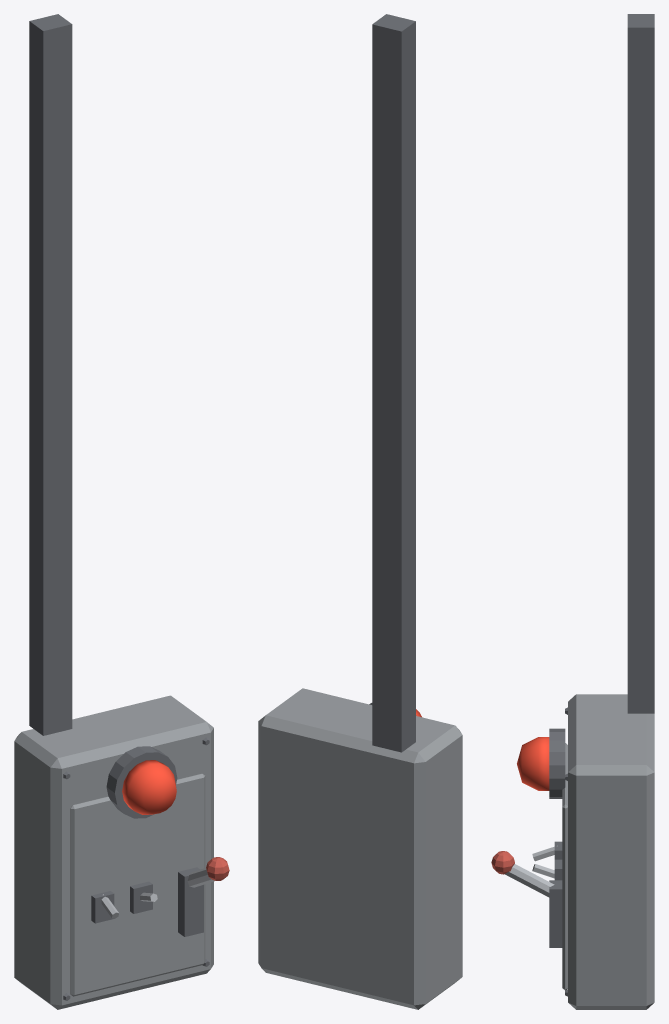
Rendered from Garage_ControlBox.glb.
3 renders of one model, left to right at view 1: azimuth 30°, elevation 25°; view 2: azimuth 150°, elevation 25°; view 3: azimuth 270°, elevation 25°, orthographic. The views are drawn at different scales.
Parts seen in each view (by area): view 1: Garage_ControlBox; view 2: Garage_ControlBox; view 3: Garage_ControlBox.
Boxes of the visible parts, x1,y1,x2,y2 form: Garage_ControlBox: (14,14,229,1009); Garage_ControlBox: (258,14,462,1009); Garage_ControlBox: (491,14,654,1009).
Size of the model in its own units: 0.34 by 1.9 by 0.302.
